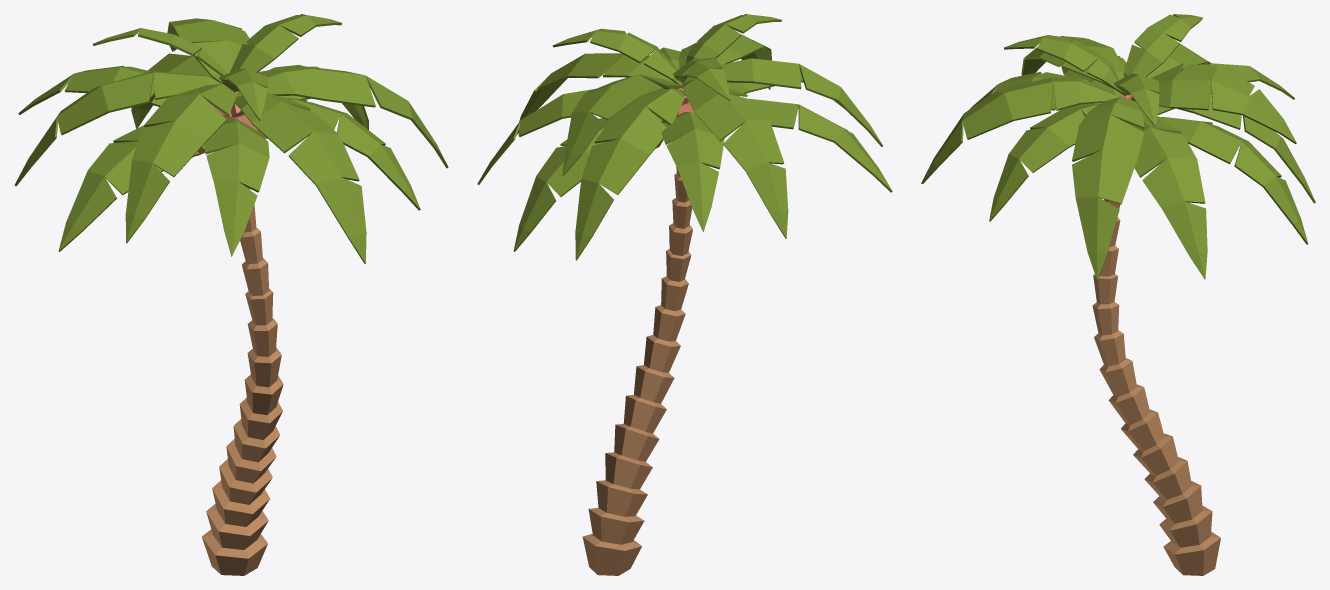
The model's file is Palm_8.fbx.
3 renders of one model, left to right at view 1: azimuth 30°, elevation 25°; view 2: azimuth 150°, elevation 25°; view 3: azimuth 270°, elevation 25°, orthographic. The views are drawn at different scales.
Visible parts, largest first — view 1: Palm_8.001; view 2: Palm_8.001; view 3: Palm_8.001.
Boxes of the visible parts, x1,y1,x2,y2 form: Palm_8.001: (14,14,448,575); Palm_8.001: (477,14,892,575); Palm_8.001: (921,14,1315,575).
Bounding box in the file's own units: 3.25 × 4.39 × 3.11.
